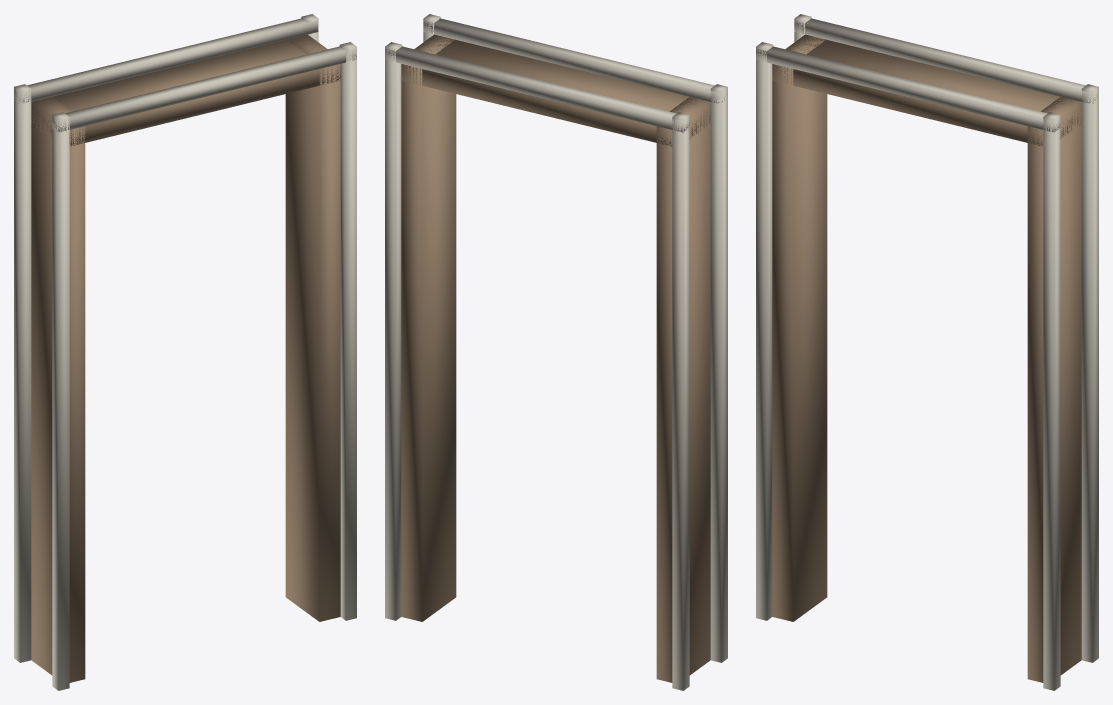
Rendered from doorway_painted_trim_w96_h210_d24.glb.
3 views of the same model, side by side, from view 1: azimuth 30°, elevation 25°; view 2: azimuth 150°, elevation 25°; view 3: azimuth 330°, elevation 25° (orthographic).
Parts seen in each view (by area): view 1: world; view 2: world; view 3: world.
Part boxes in pixels (x1,y1,x2,y2): world: (14,14,356,690); world: (385,14,727,690); world: (756,14,1098,690).
Size of the model in its own units: 1.22 by 2.24 by 0.3165.
